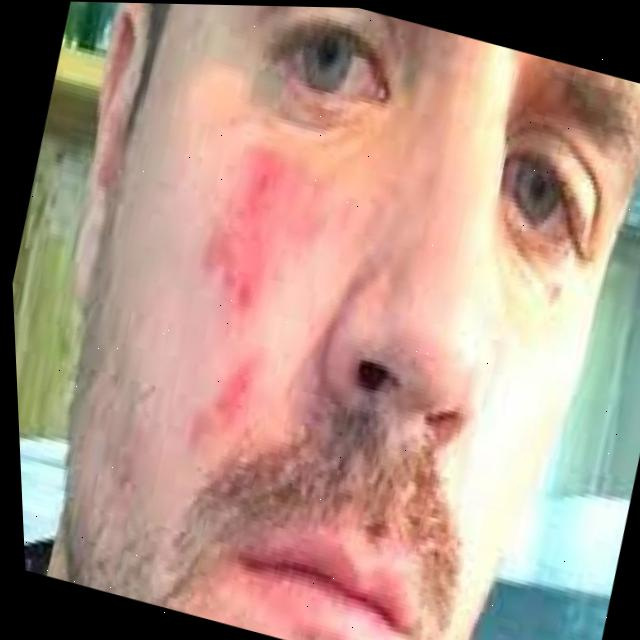Rosacea: (141, 136, 318, 463)
